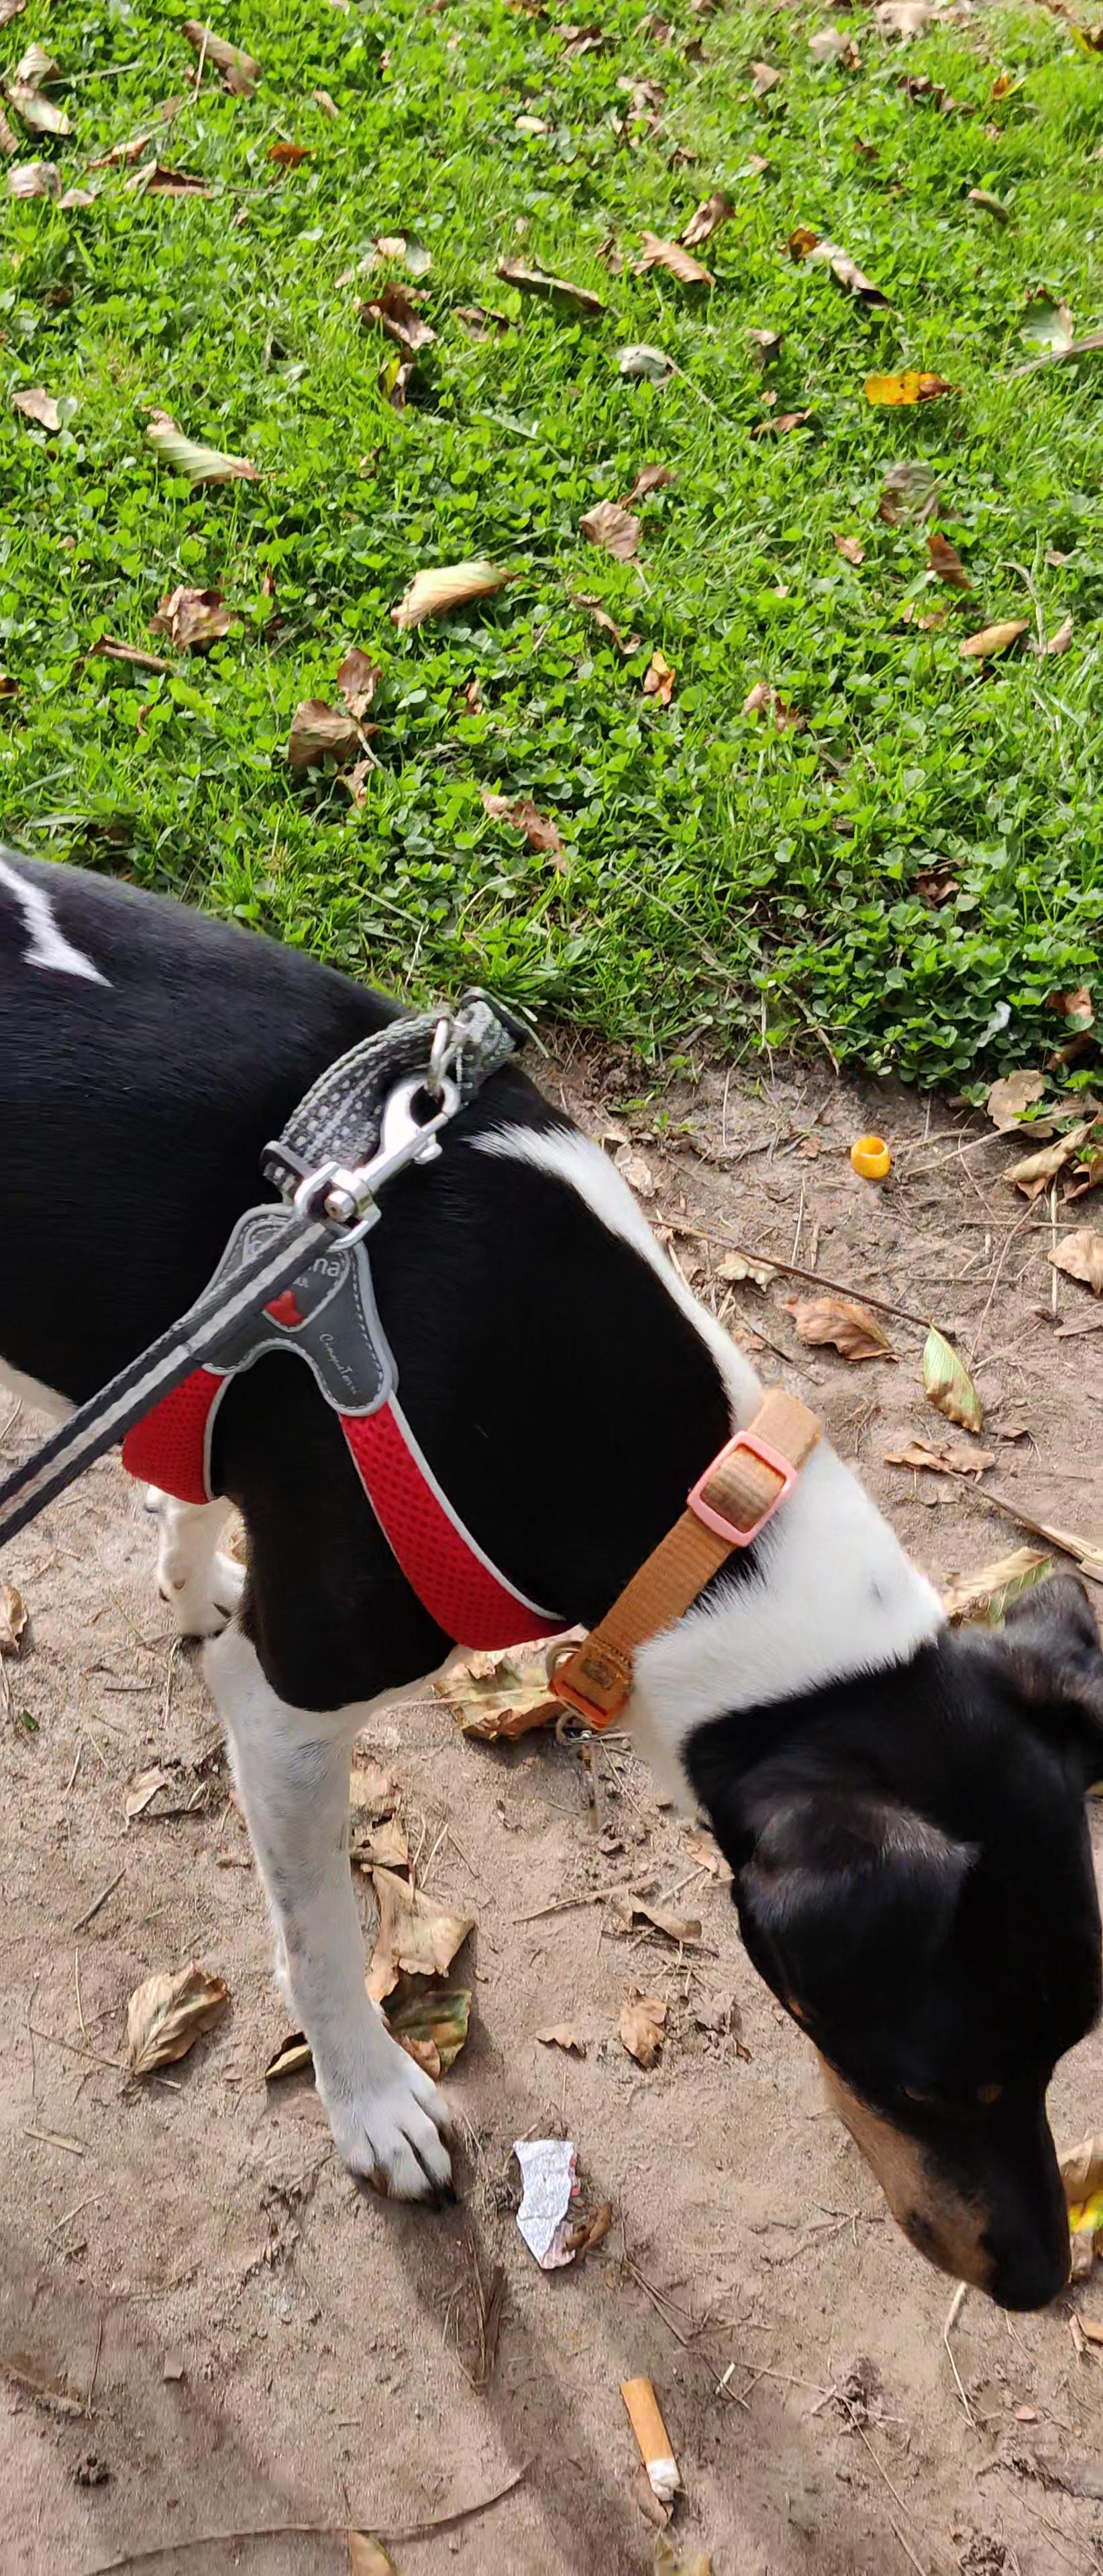Dog: (0, 838, 1103, 2323)
